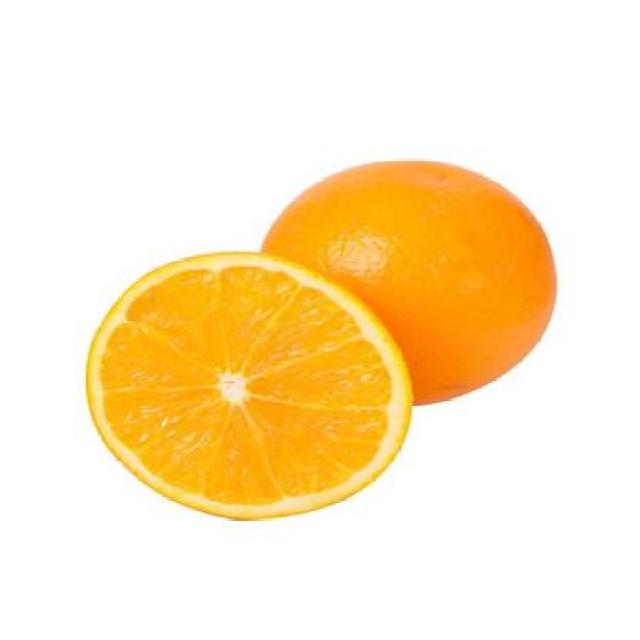Orange: (83, 249, 414, 520), (258, 157, 557, 406)
